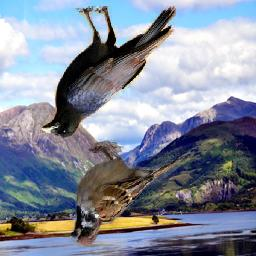Crow: (42, 7, 177, 142)
Sparrow: (67, 139, 186, 250)
